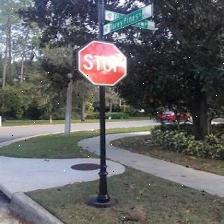Stop: (77, 41, 127, 85)
